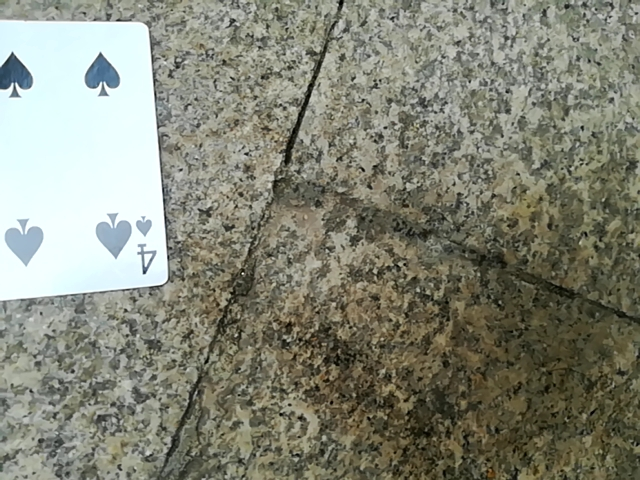ht 4: (2, 11, 162, 312)
